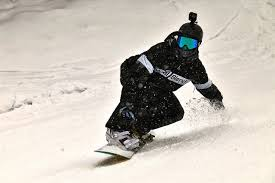snowboarder: (90, 4, 230, 162)
